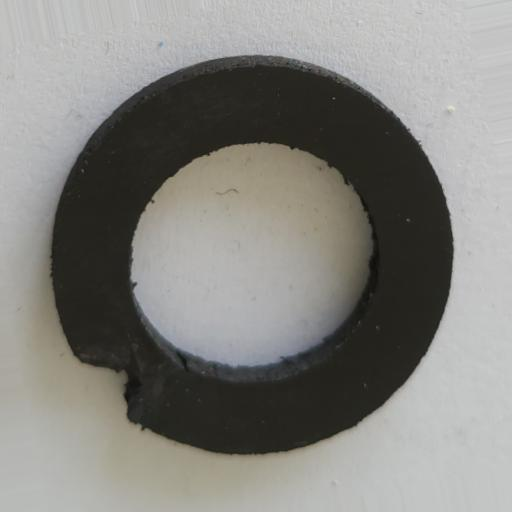defect: (79, 359, 138, 425)
